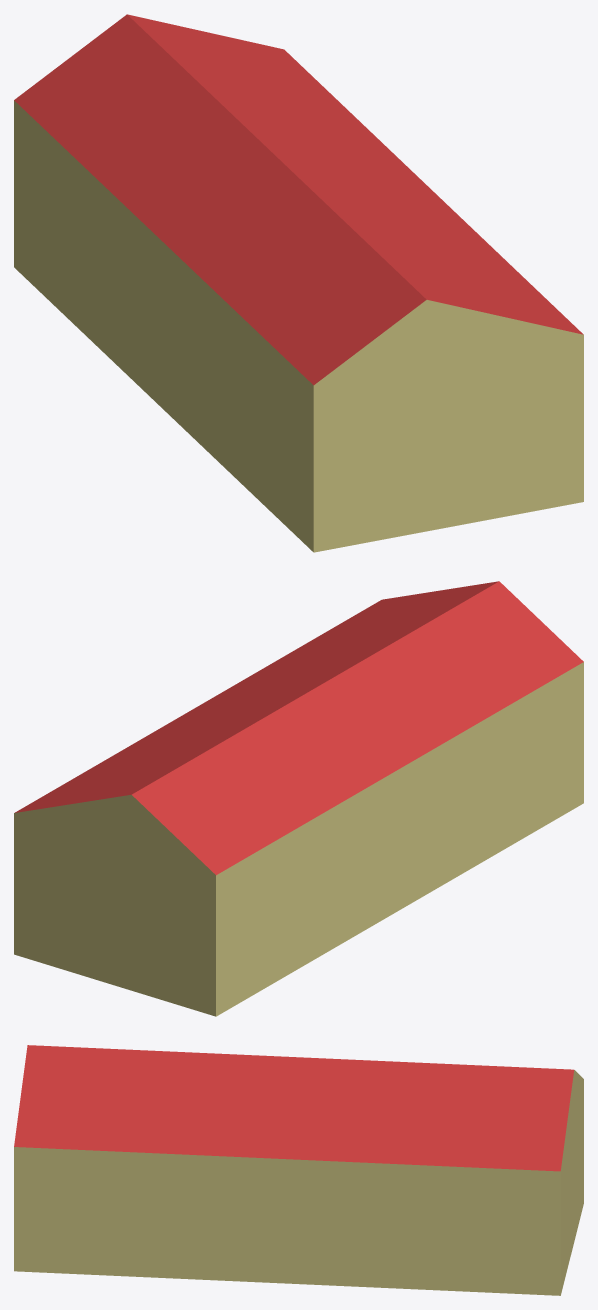
3 renders of one model, top to bottom at view 1: azimuth 30°, elevation 25°; view 2: azimuth 150°, elevation 25°; view 3: azimuth 270°, elevation 25°, orthographic. The views are drawn at different scales.
Size of the model in its own units: 8.39 by 17.28 by 5.77.
